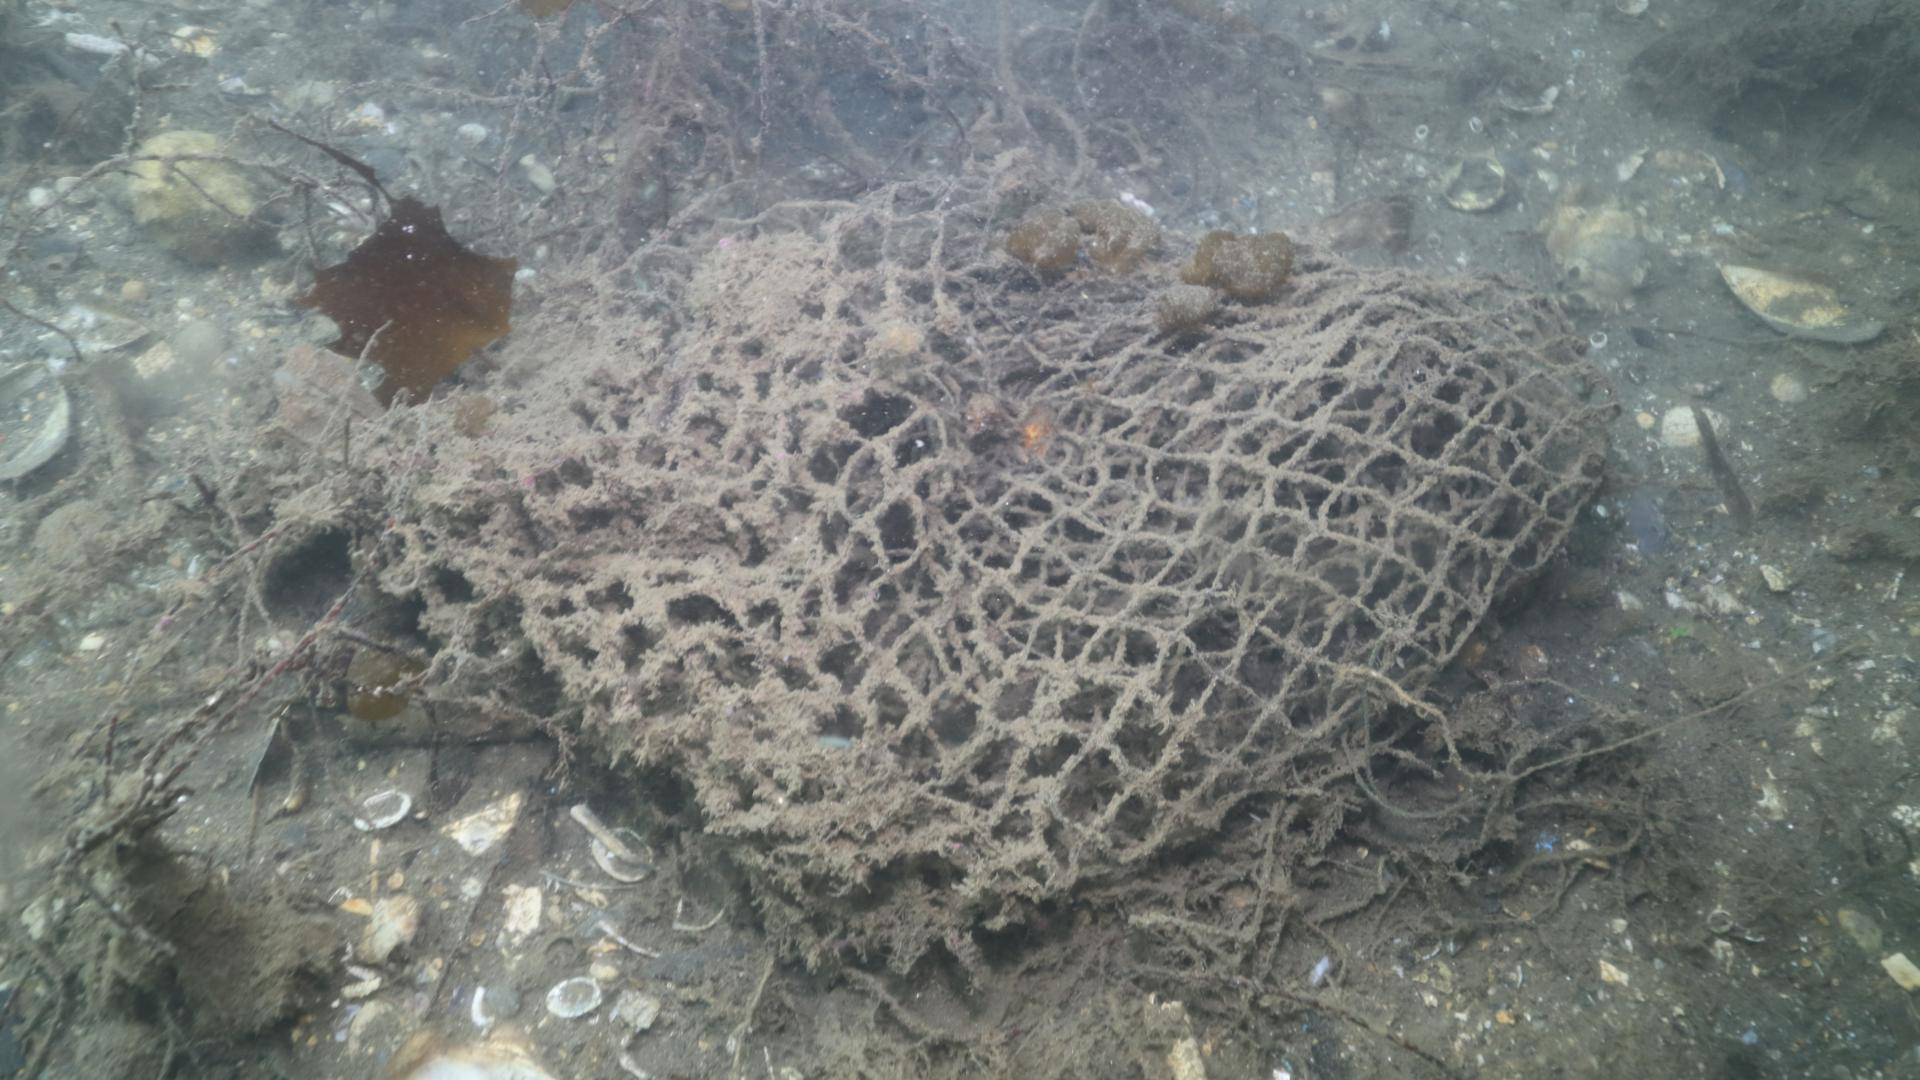fish net: (407, 173, 1619, 942)
